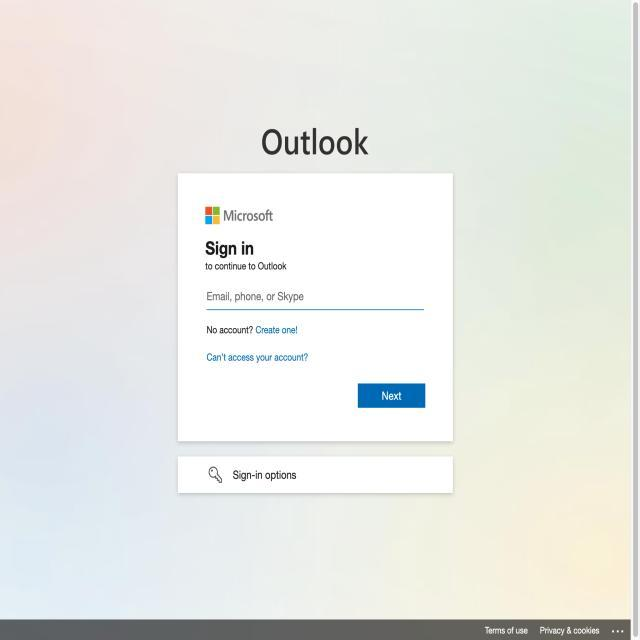button: (347, 376, 441, 414)
input field: (186, 280, 443, 318)
